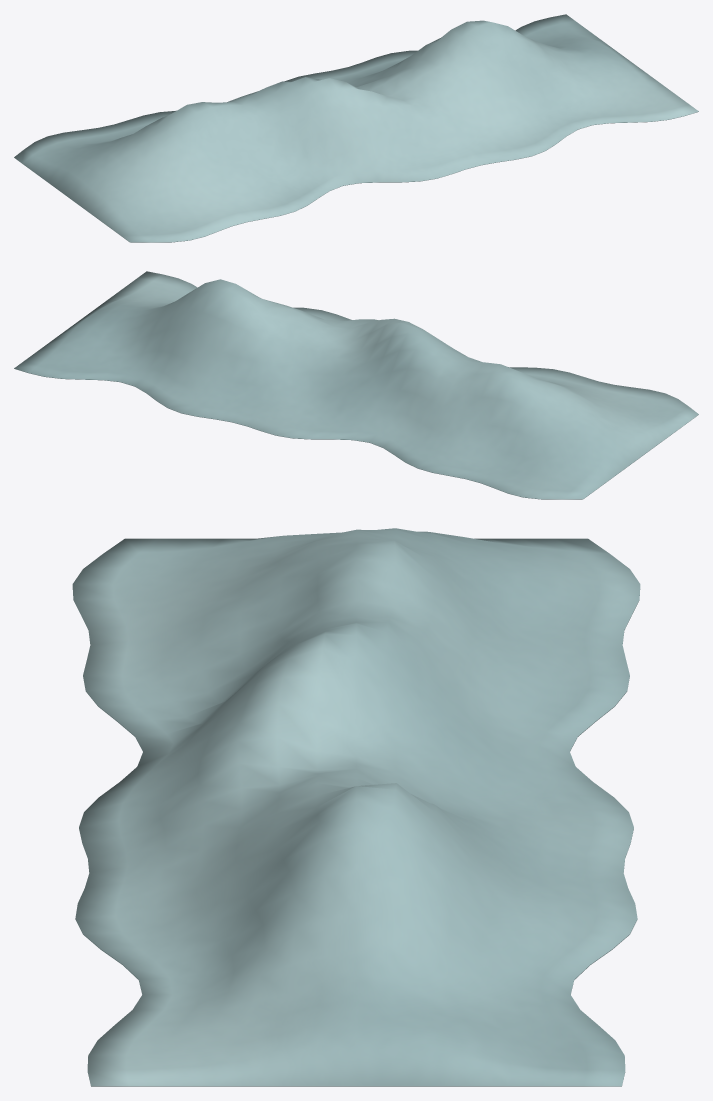
File: mountain_far_B.glb
The picture shows the model from 3 angles, top to bottom: view 1: azimuth 30°, elevation 25°; view 2: azimuth 150°, elevation 25°; view 3: azimuth 270°, elevation 25°; orthographic projection. The views are drawn at different scales.
Parts seen in each view (by area): view 1: mountain_far_B; view 2: mountain_far_B; view 3: mountain_far_B.
Boxes of the visible parts, x1,y1,x2,y2 form: mountain_far_B: (14, 14, 698, 242); mountain_far_B: (14, 271, 698, 499); mountain_far_B: (72, 528, 640, 1086).
Size of the model in its own units: 48 by 6.15 by 21.05.
1 material, 1 textured.
